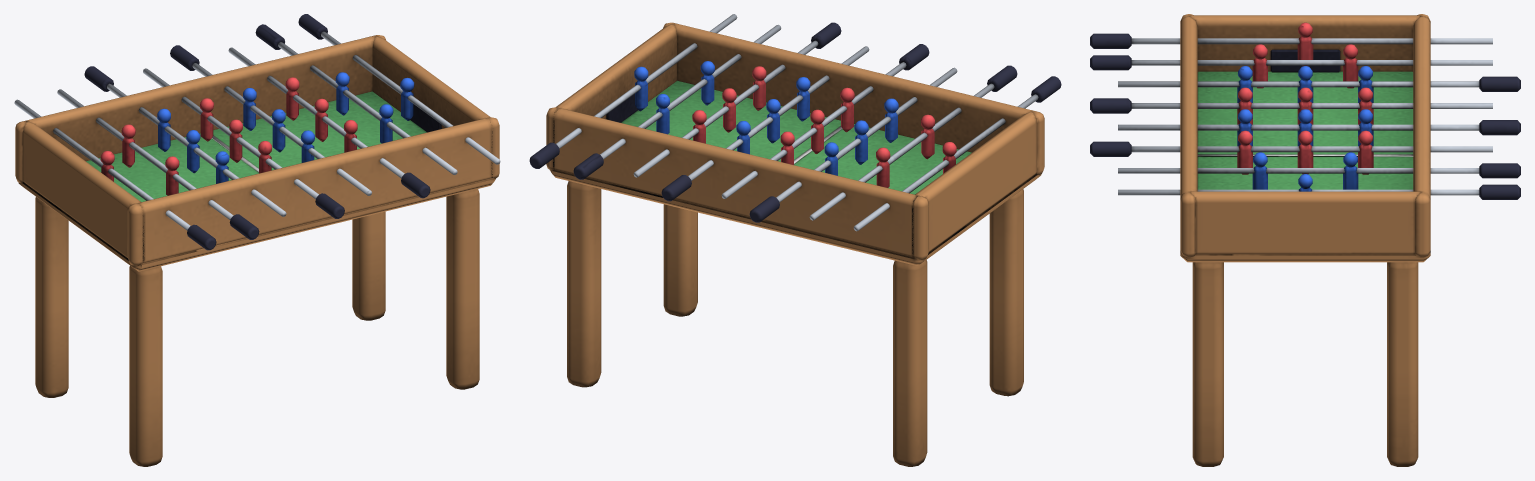
The model's file is foosball_table.glb.
3 views of the same model, side by side, from view 1: azimuth 30°, elevation 25°; view 2: azimuth 150°, elevation 25°; view 3: azimuth 270°, elevation 25° (orthographic). The views are drawn at different scales.
Parts seen in each view (by area): view 1: foosball_table; view 2: foosball_table; view 3: foosball_table.
Boxes of the visible parts, x1,y1,x2,y2 form: foosball_table: [14, 14, 500, 466]; foosball_table: [529, 14, 1061, 466]; foosball_table: [1090, 14, 1520, 466].
Bounding box in the file's own units: 1.27 × 0.907 × 1.24.
8 materials, 8 textured.
